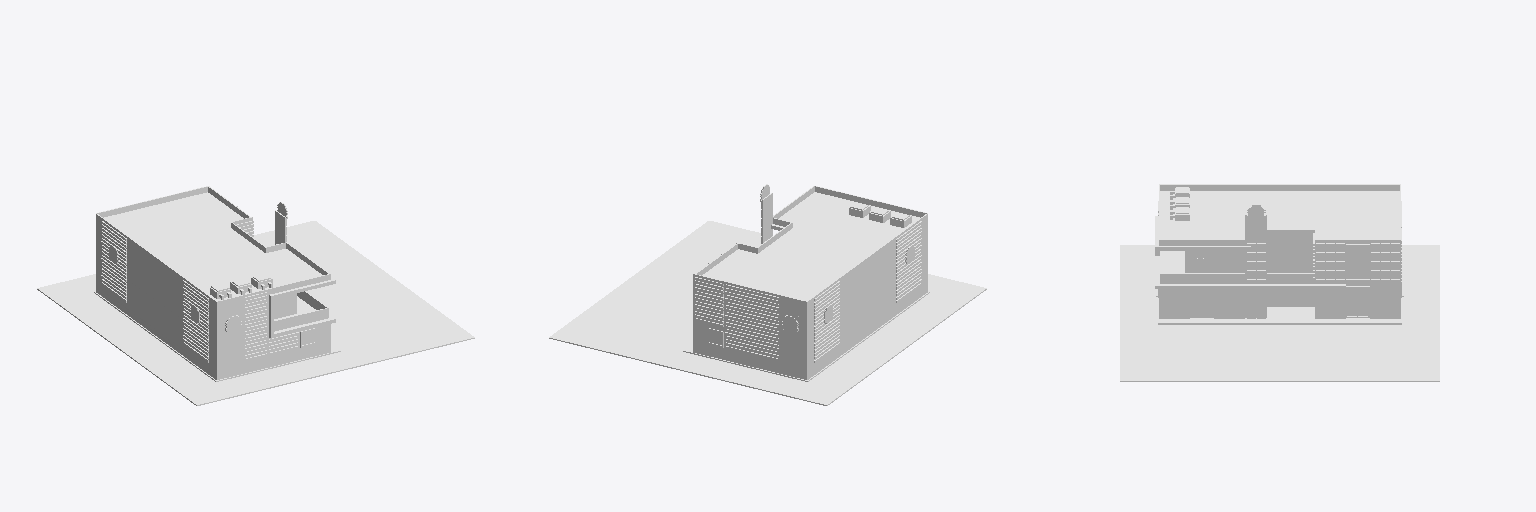
File: Mac.obj
3 views of the same model, side by side, from view 1: azimuth 30°, elevation 25°; view 2: azimuth 150°, elevation 25°; view 3: azimuth 270°, elevation 25° (orthographic).
Parts seen in each view (by area): view 1: object 1; view 2: object 1; view 3: object 1.
Boxes of the visible parts, box(x1,y1,x2,y2) form: object 1: box(37, 186, 474, 405); object 1: box(549, 184, 986, 405); object 1: box(1120, 184, 1439, 381).
Bounding box in the file's own units: 25.6 × 10.2 × 25.5.